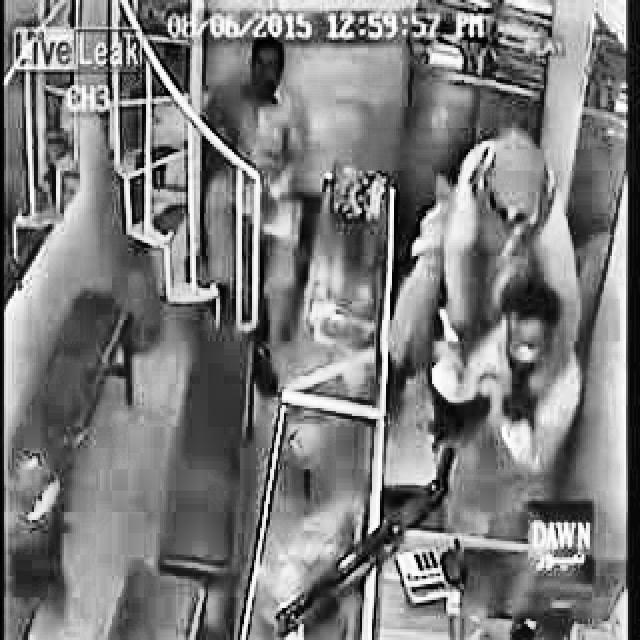Weapon: (483, 272, 640, 493), (204, 16, 356, 178), (456, 118, 605, 258)
